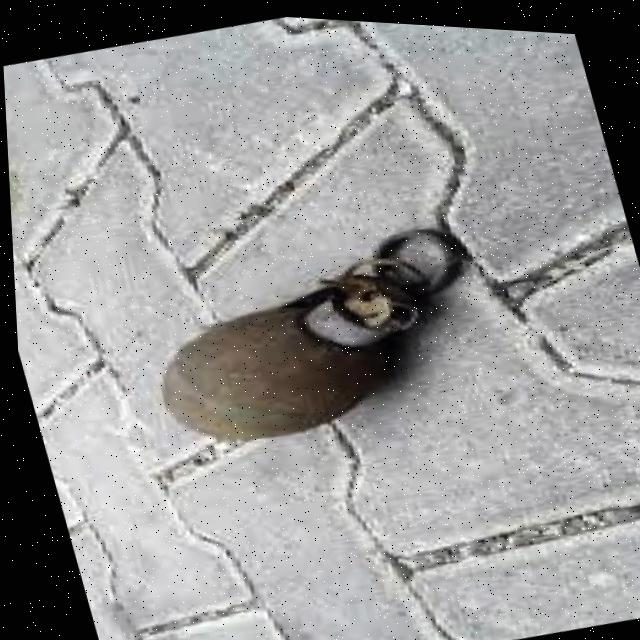grenade: (121, 180, 525, 487)
